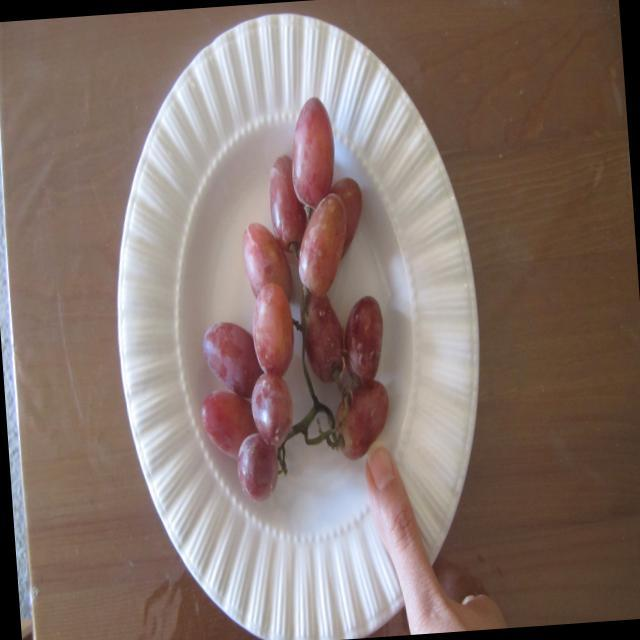Finger: (360, 440, 423, 564)
Grapes: (176, 85, 404, 450)
